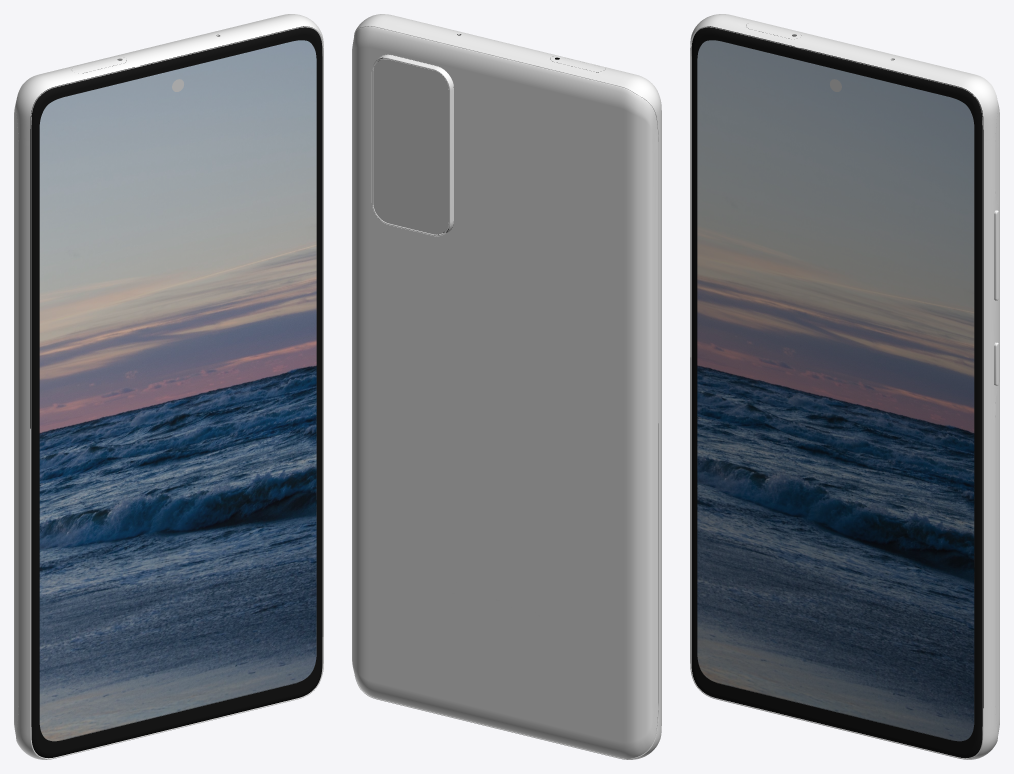
3 renders of one model, left to right at view 1: azimuth 30°, elevation 25°; view 2: azimuth 150°, elevation 25°; view 3: azimuth 330°, elevation 25°, orthographic.
Parts seen in each view (by area): view 1: Samsung Galaxy S20 FE.003; view 2: Samsung Galaxy S20 FE.003; view 3: Samsung Galaxy S20 FE.003.
Boxes of the visible parts, bbox=[...] form: Samsung Galaxy S20 FE.003: bbox=[14, 14, 323, 759]; Samsung Galaxy S20 FE.003: bbox=[352, 14, 661, 759]; Samsung Galaxy S20 FE.003: bbox=[690, 14, 999, 759].
Size of the model in its own units: 0.0748 by 0.1596 by 0.00985.
13 materials, 2 textured.
